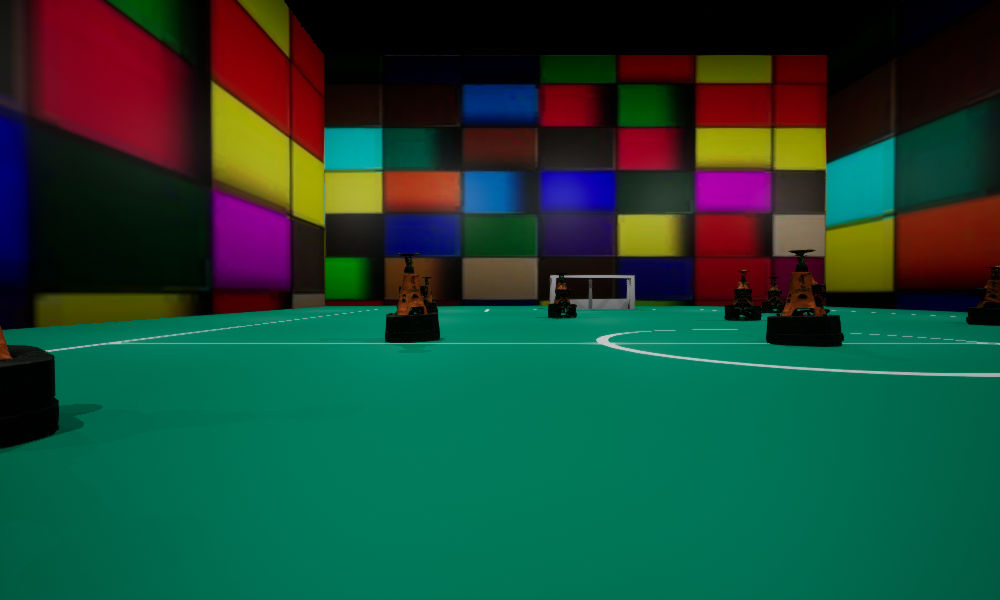0 orange robot TechUnited: (766, 249, 843, 346), (0, 326, 58, 448), (385, 253, 439, 342), (966, 266, 999, 325), (724, 270, 761, 320), (548, 273, 576, 317), (761, 277, 785, 312), (415, 277, 437, 312)
